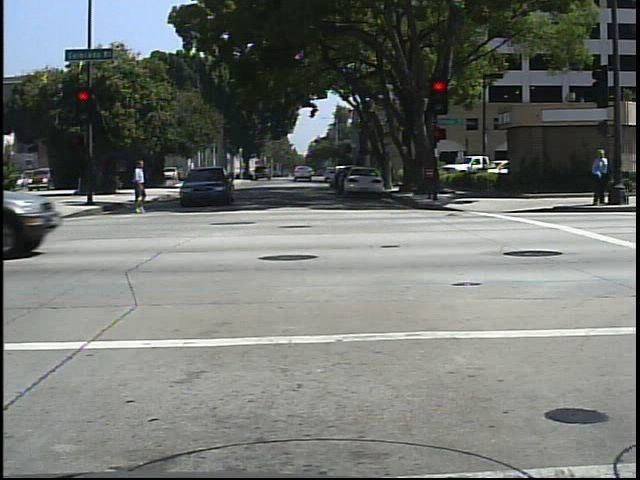person: (125, 156, 155, 220), (589, 142, 614, 209)
